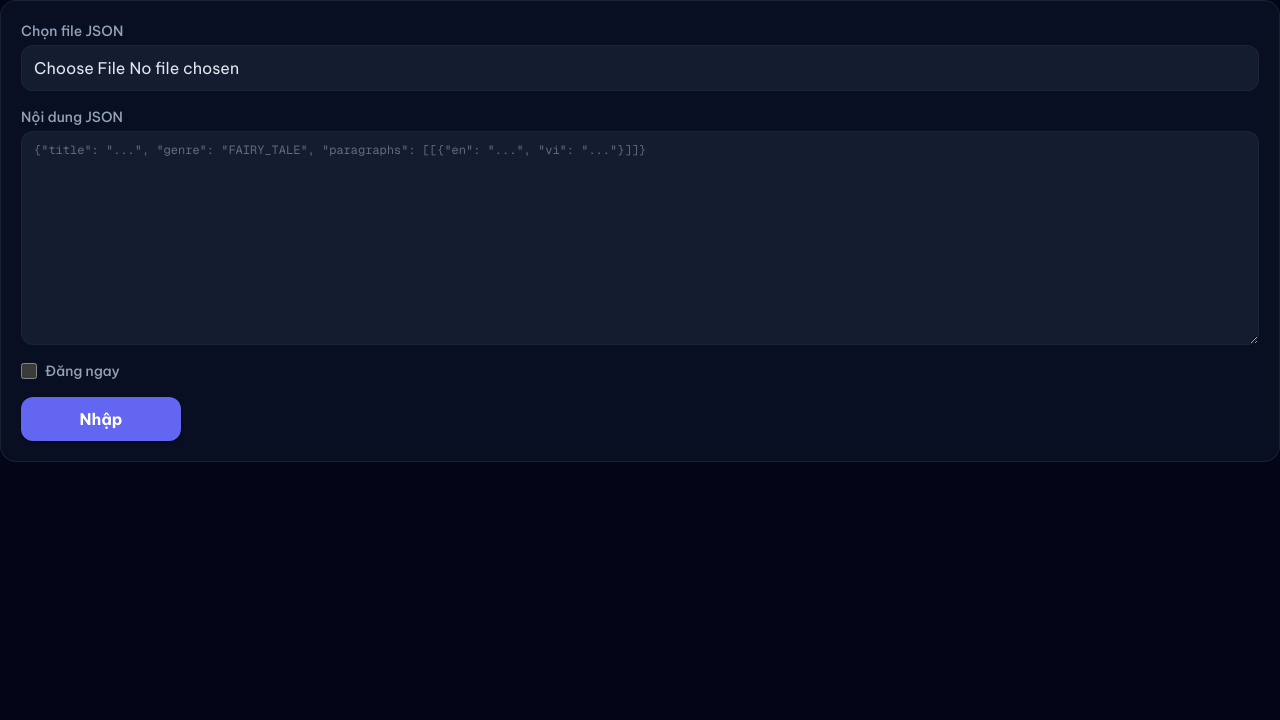
Test: ReadingImportForm › bài nháp chỉ cho link sửa, không cho link trang đọc 404
Click the button "Nhập" at x=101, y=419, box x1=21 y1=397 x2=181 y2=441
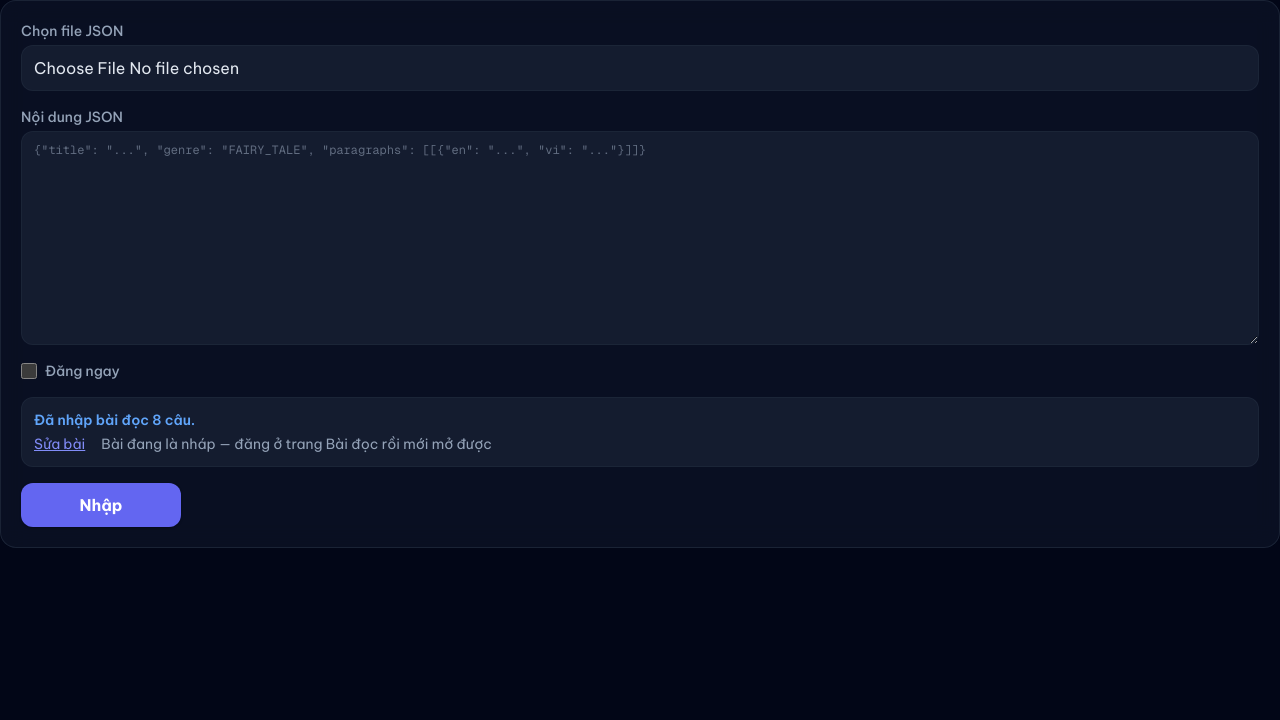
Now the text "Đã nhập bài đọc 8 câu." is shown, box x1=34 y1=411 x2=195 y2=429
